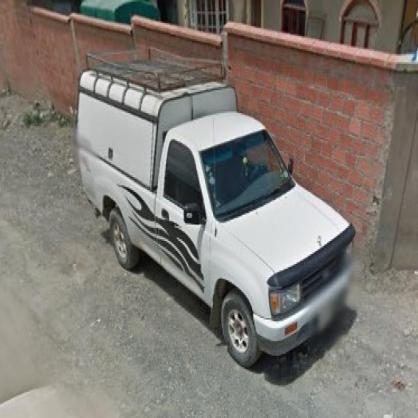car: (71, 47, 362, 369)
